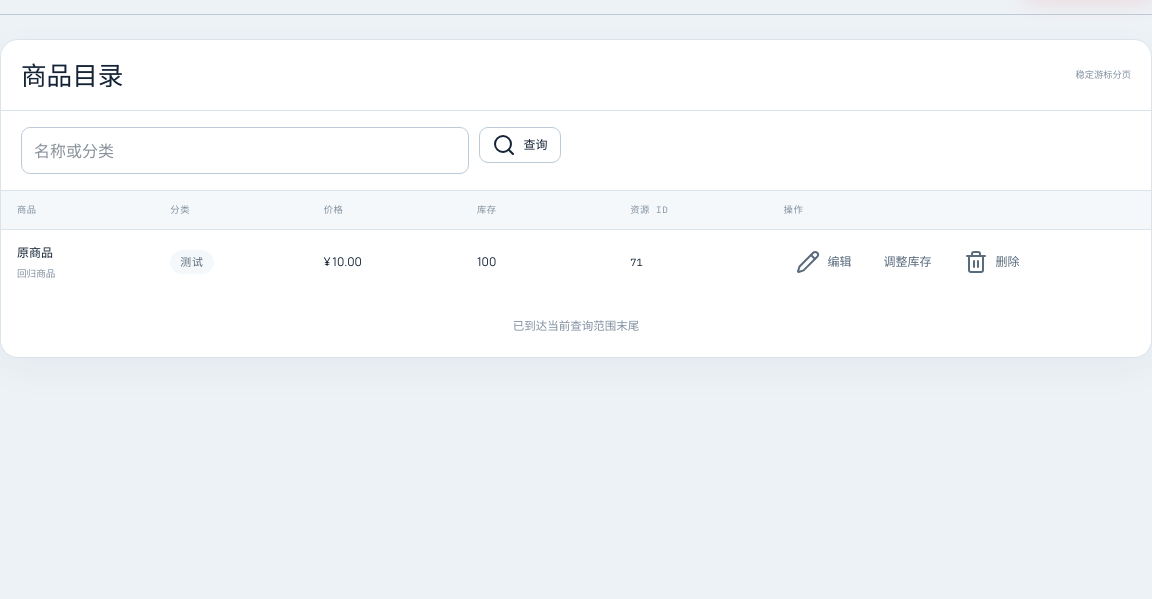
AdminProductsPage inventory boundaries › a stale name-only form never sends its cached stock
Click the button "编辑" at (824, 262), box [784, 244, 864, 280]
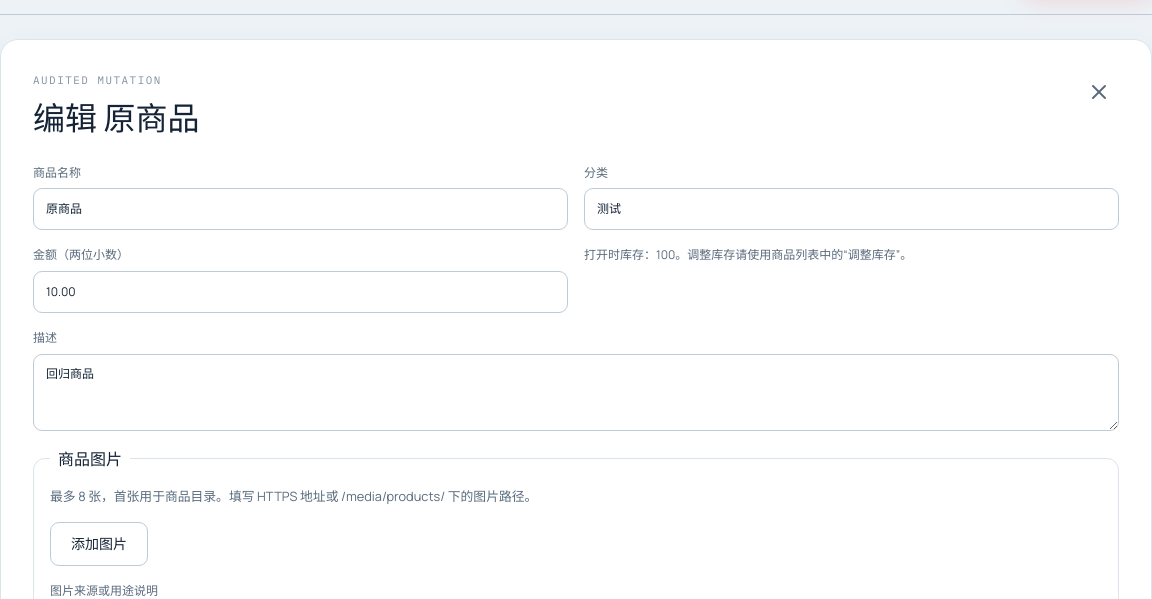
Replace the text in the field labelled "商品名称" with "新商品名称" at (300, 209), box [33, 188, 568, 230]
(page scrolled)
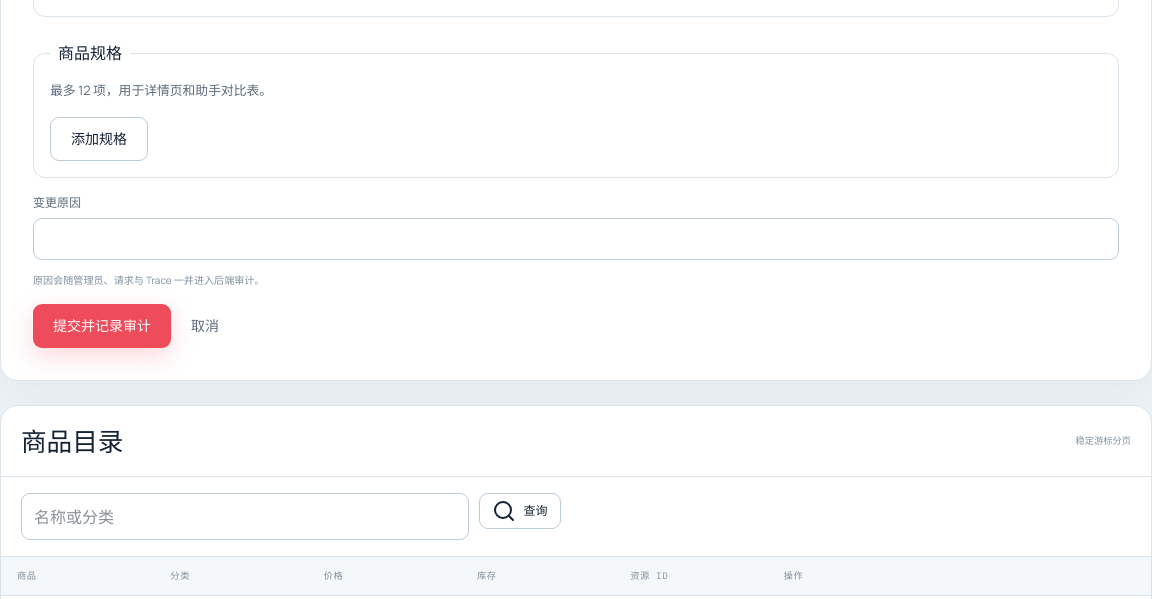
Type "只修改商品名称" into the field labelled "变更原因 原因会随管理员、请求与 Trace 一并进入后端审计。" at (576, 239), box [33, 218, 1119, 260]
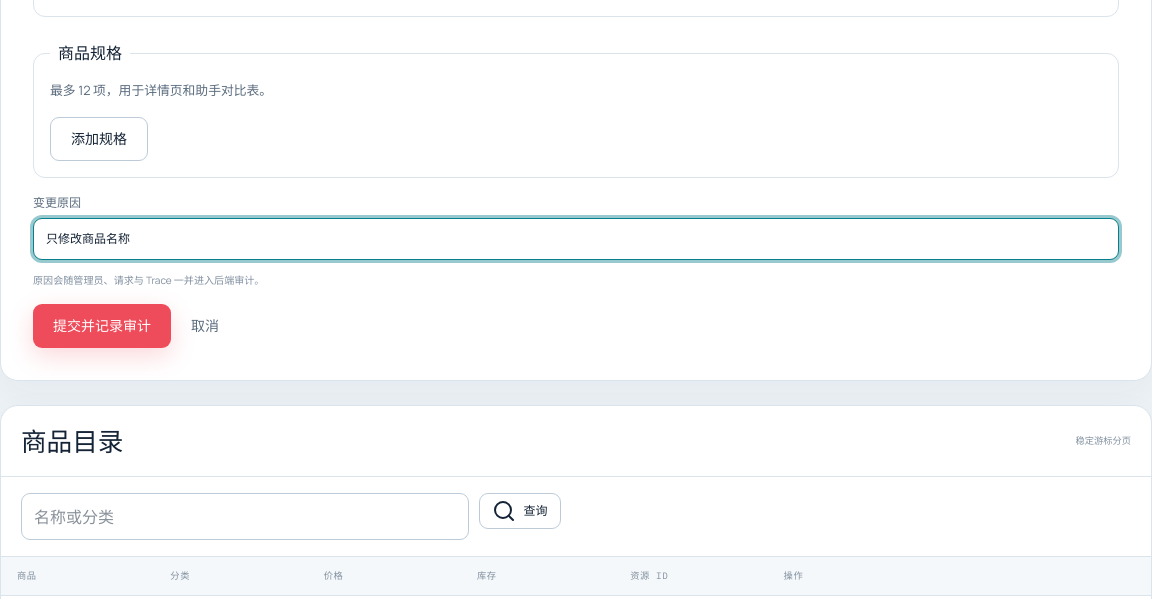
Click the button "提交并记录审计" at (102, 326), box [33, 304, 171, 348]
(page scrolled)
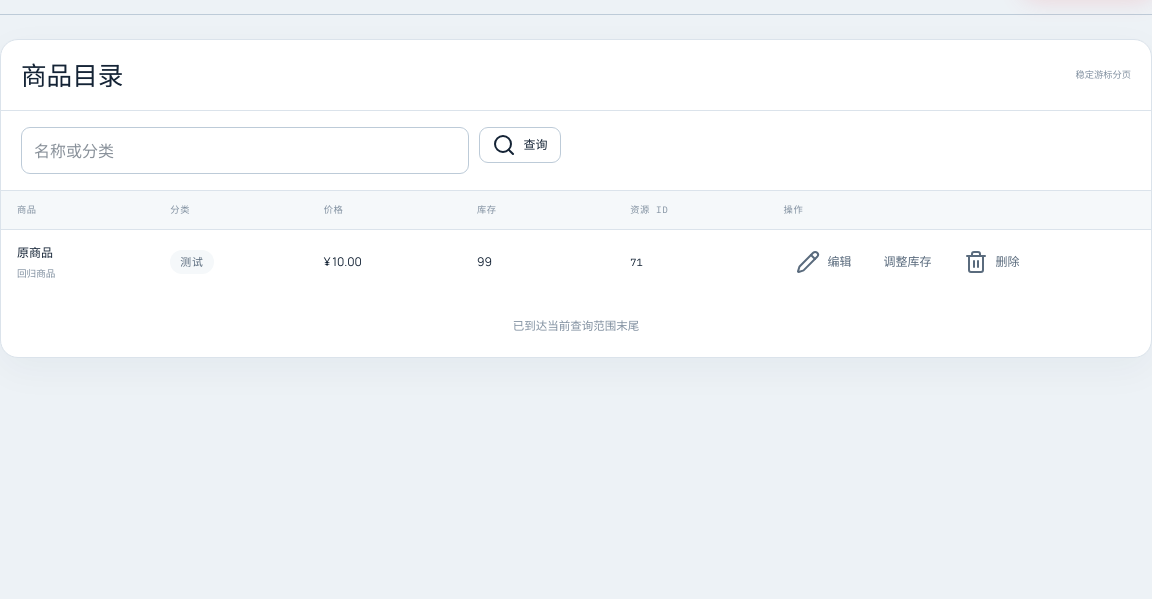
Result: the cell "99" is shown at [461, 230, 614, 294]
